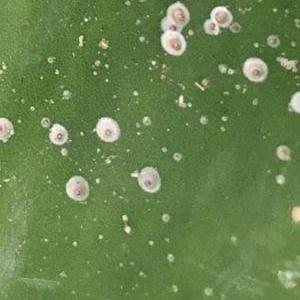Femea: (136, 166, 157, 190), (244, 57, 264, 81), (160, 35, 185, 52), (97, 118, 115, 141), (169, 4, 189, 24), (51, 125, 71, 143), (65, 181, 86, 198), (210, 8, 229, 26), (166, 21, 185, 35), (277, 146, 291, 161), (139, 115, 153, 126), (205, 21, 218, 32), (171, 151, 180, 160)
Linfa: (92, 57, 110, 77), (273, 171, 288, 187), (174, 95, 191, 108), (147, 58, 162, 71), (214, 62, 227, 75), (122, 225, 135, 238), (68, 237, 78, 249), (143, 237, 156, 246), (57, 147, 69, 156), (94, 176, 103, 186), (250, 40, 259, 50), (94, 233, 105, 241), (160, 213, 169, 222), (226, 68, 235, 77), (118, 213, 129, 220), (200, 77, 209, 85)
Macho: (191, 79, 204, 93), (75, 34, 86, 48), (128, 172, 142, 178)
